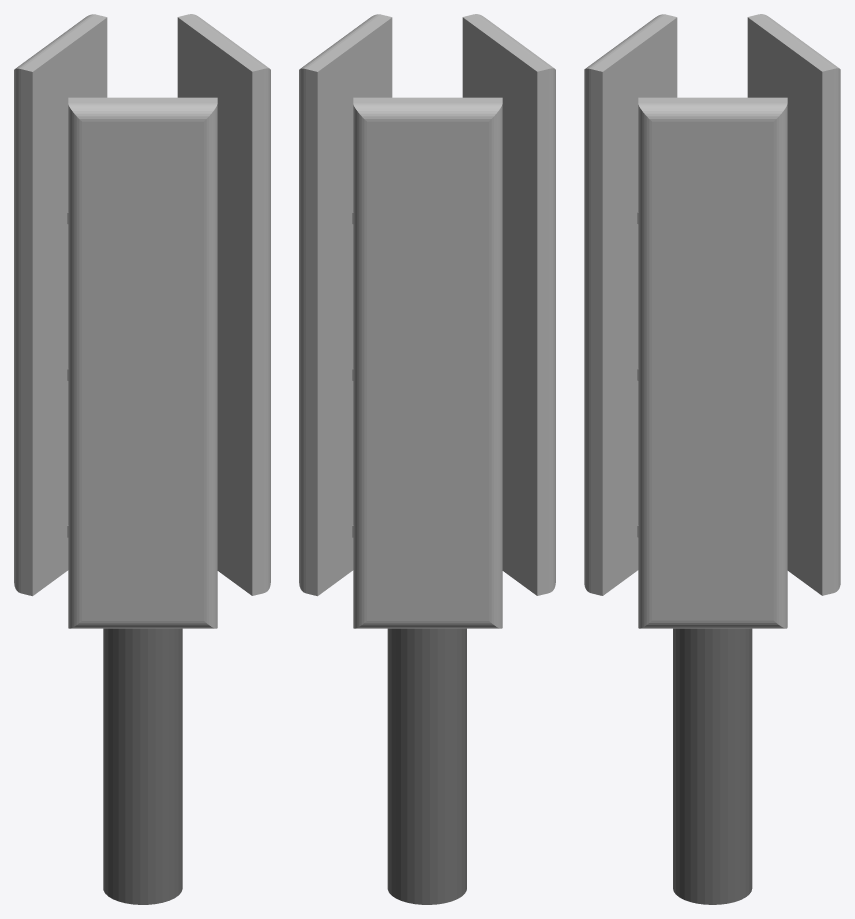
File: Antenna.fbx
3 renders of one model, left to right at view 1: azimuth 30°, elevation 25°; view 2: azimuth 150°, elevation 25°; view 3: azimuth 270°, elevation 25°, orthographic.
Parts seen in each view (by area): view 1: Cylinder.014; view 2: Cylinder.014; view 3: Cylinder.014.
Part boxes in pixels (x1,y1,x2,y2): Cylinder.014: [14, 14, 270, 904]; Cylinder.014: [299, 14, 555, 904]; Cylinder.014: [584, 14, 840, 904].
Bounding box in the file's own units: 303 × 1220 × 343.
